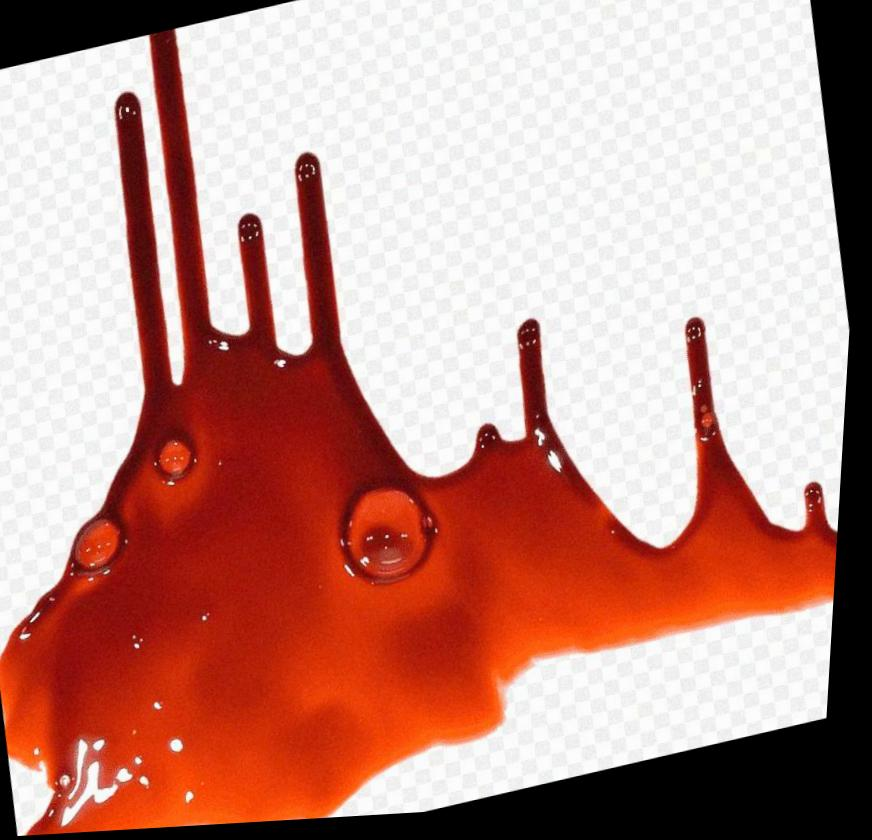Fire: (6, 31, 845, 837)
